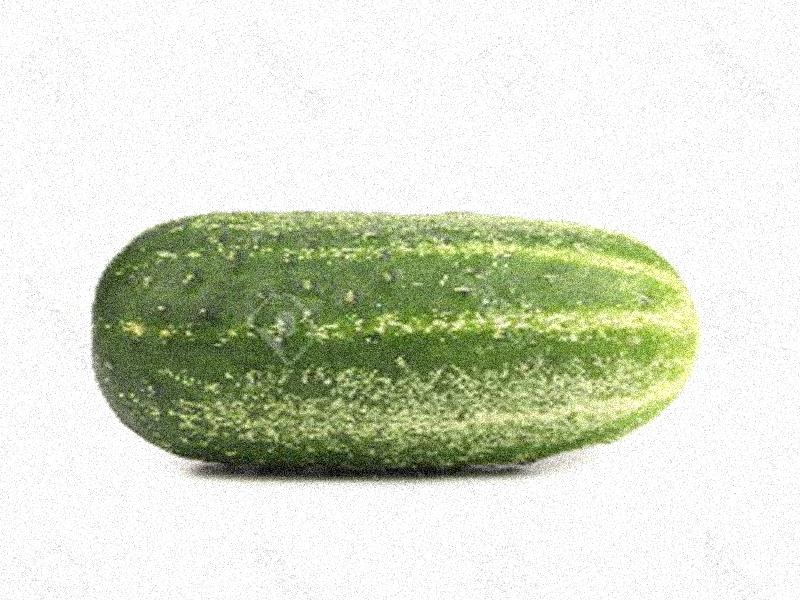Cucumber: (87, 211, 693, 473)
